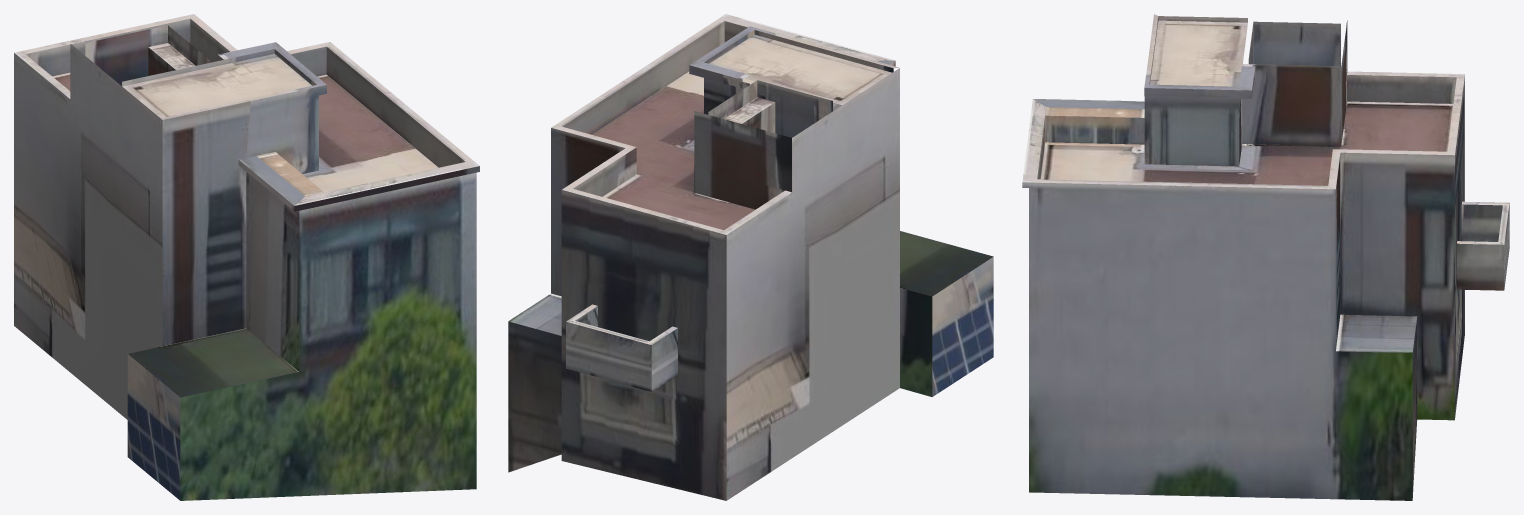
3 renders of one model, left to right at view 1: azimuth 30°, elevation 25°; view 2: azimuth 150°, elevation 25°; view 3: azimuth 270°, elevation 25°, orthographic. The views are drawn at different scales.
Visible parts, largest first — view 1: B283804030501062A0; view 2: B283804030501062A0; view 3: B283804030501062A0.
Part boxes in pixels (x1,y1,x2,y2): B283804030501062A0: (14, 14, 479, 500); B283804030501062A0: (508, 14, 993, 500); B283804030501062A0: (1022, 14, 1509, 500).
Bounding box in the file's own units: 10.63 × 12.67 × 15.4.
1 material, 1 textured.
